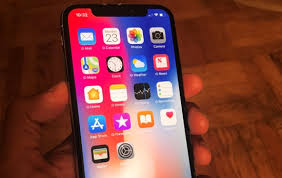iphone: (58, 1, 199, 176)
iphone10: (58, 2, 199, 177)
